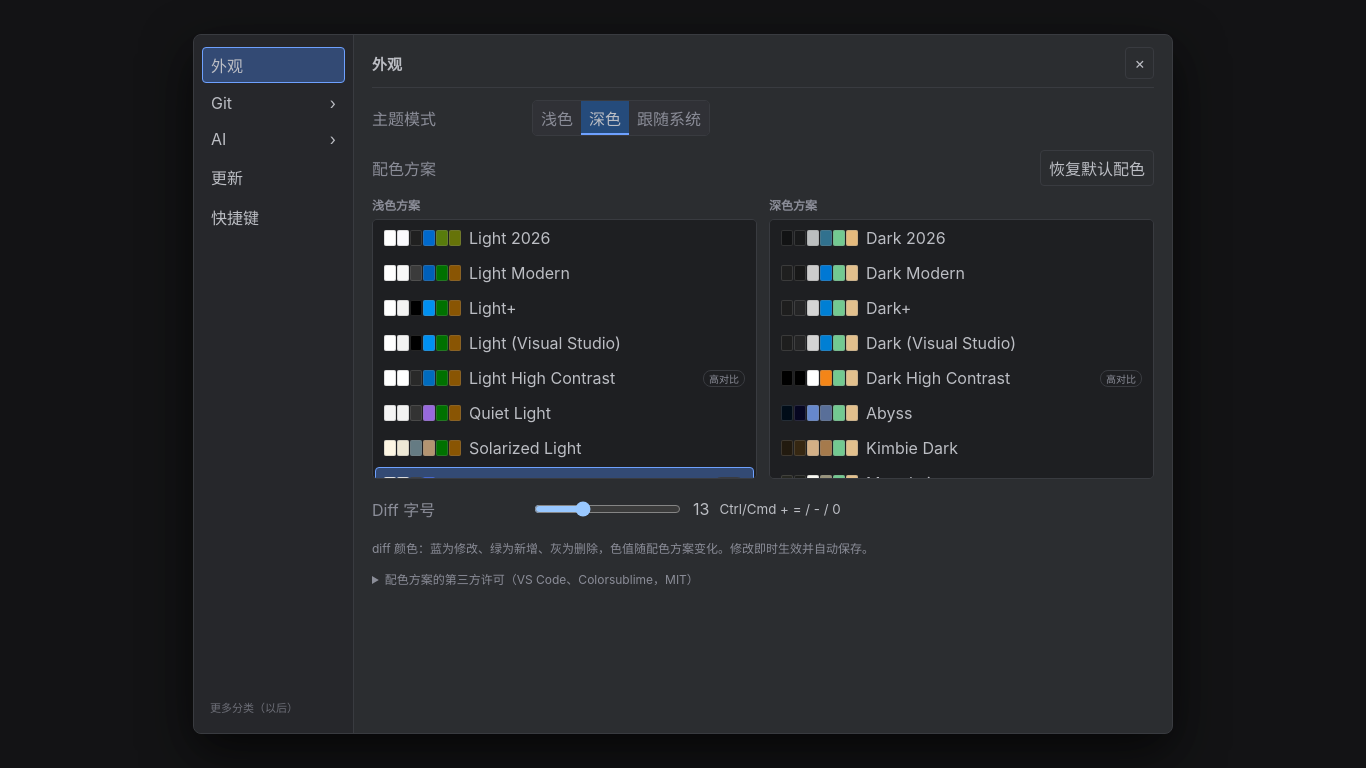
keeps the Windows signed automatic update explanation
Click the button "更新": click(274, 177) [202,159,345,195]
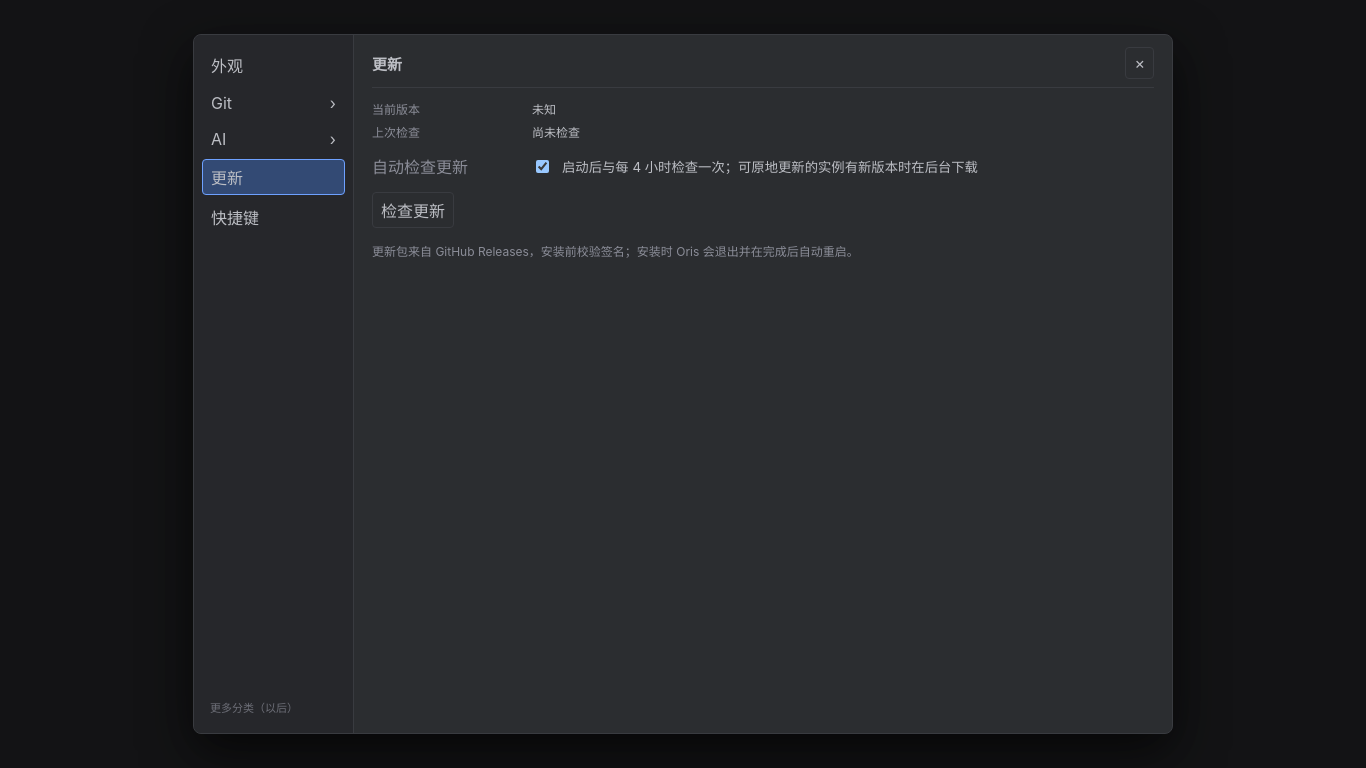
Result: the text "有新版本时在后台下载" is shown at [562,158,978,174]
Result: the text "安装前校验签名" is shown at [372,244,859,259]
Result: the text "完成后自动重启" is shown at [372,244,859,259]
